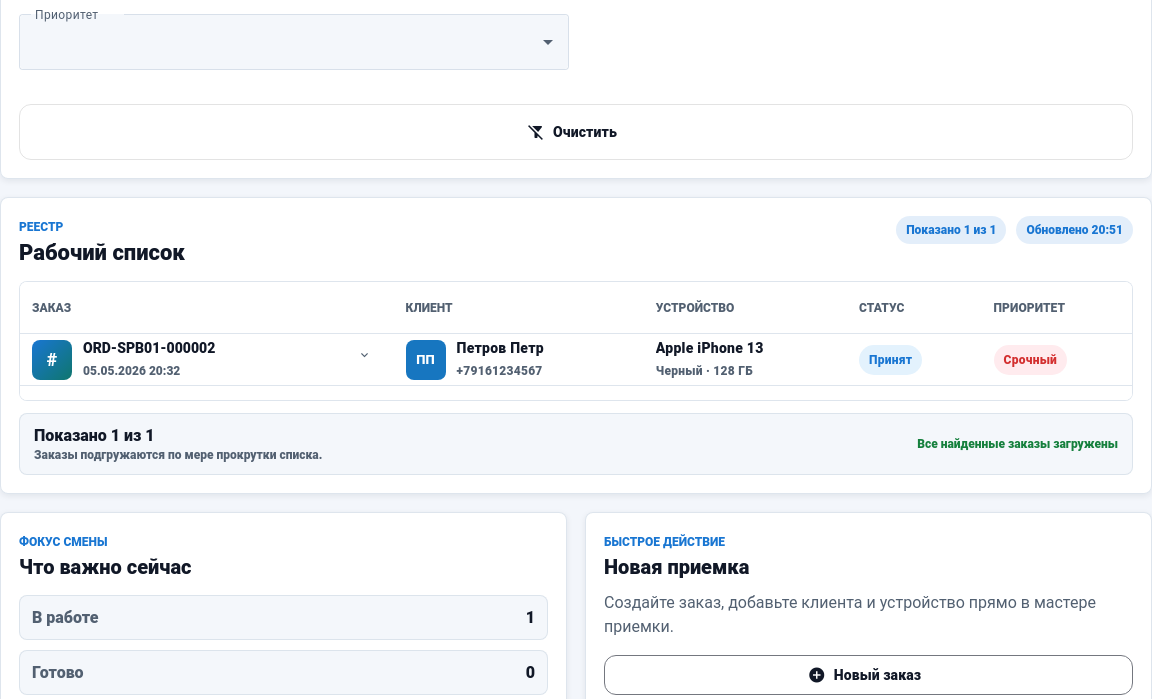
Scenario: OrdersListComponent › expands a row with device details and card actions
The width and height of the screenshot is (1152, 699).
(page scrolled)
Step 1. Click the row with class "order-data-row" → [576, 360], box top-left (20, 334), bottom-right (1132, 386)
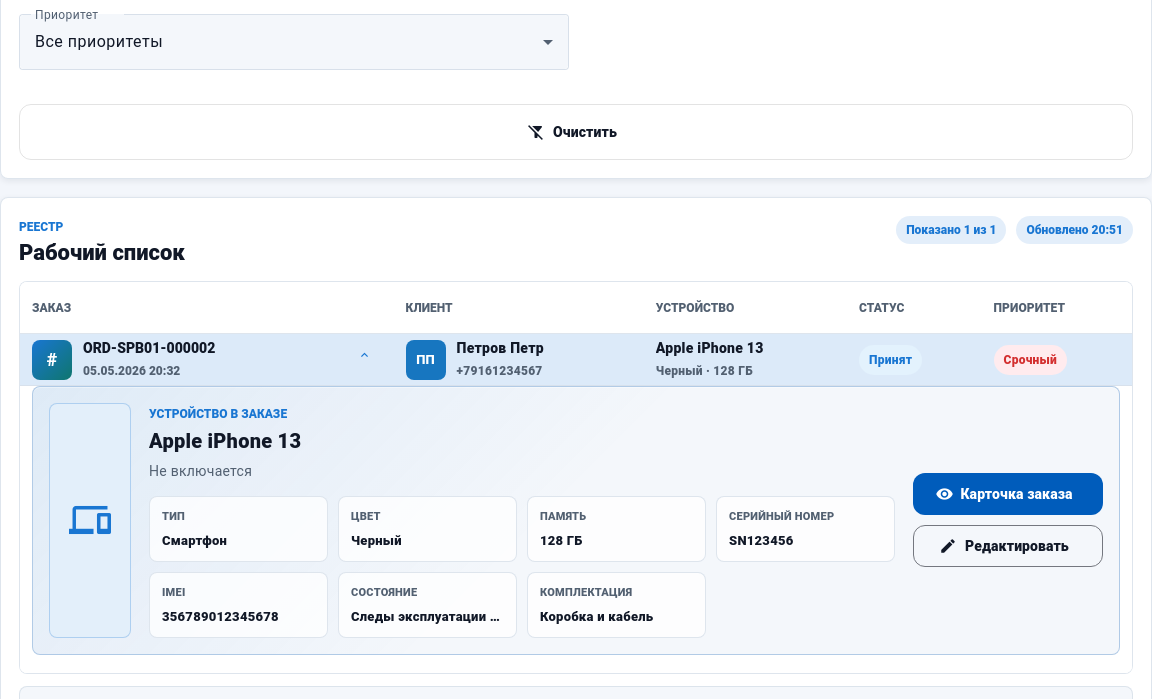
Expected: the element with class "order-device-detail" is shown, top-left (32, 386), bottom-right (1120, 654)
Expected: the element with class "order-device-detail" shows "Устройство в заказе", top-left (149, 407), bottom-right (287, 421)
Expected: the element with class "order-device-detail" shows "Apple iPhone 13", top-left (149, 429), bottom-right (301, 453)
